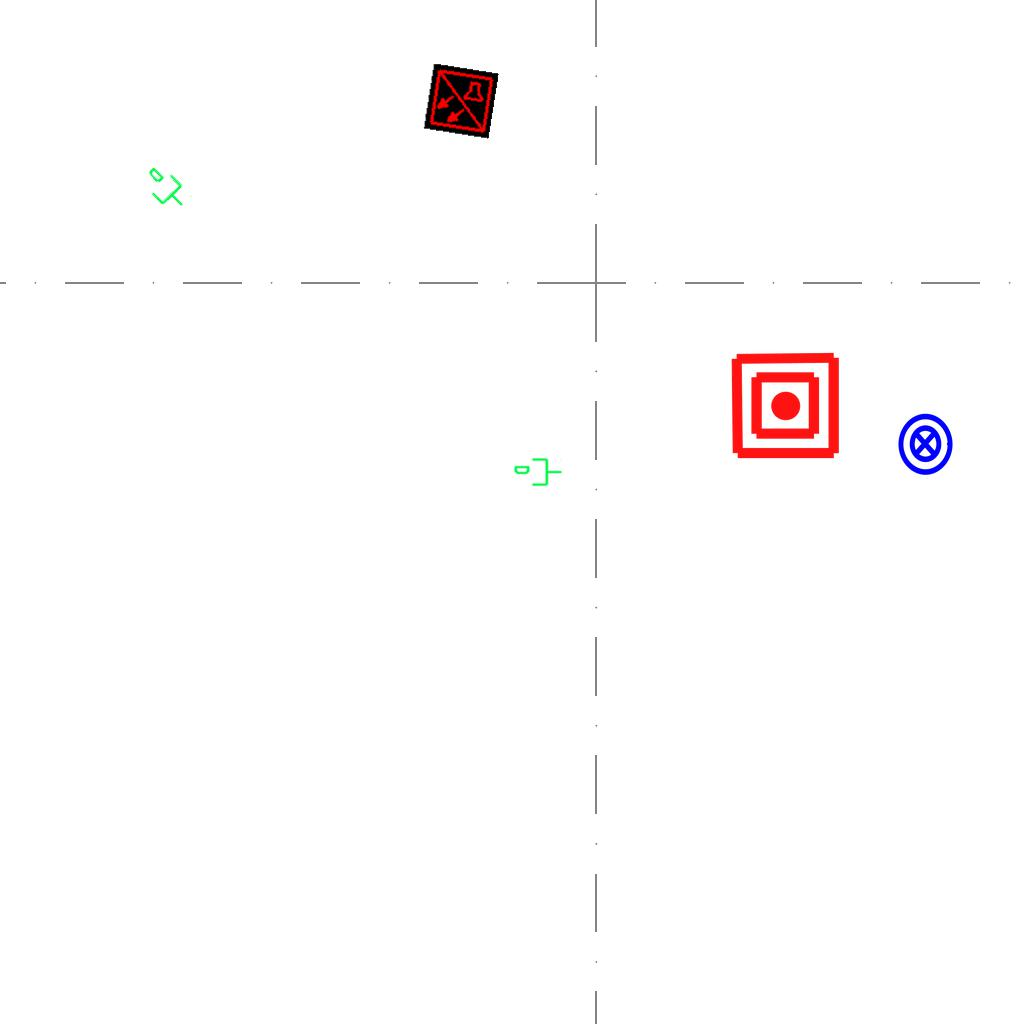Datenanschluss_einfach: (135, 159, 195, 219), (513, 456, 563, 490)
NAM-Nichtautomatischer_Melder: (729, 349, 842, 462)
OKW_Multisensormelder_(Kombination_optischer_Rauch-Kahlenmonoxid_Waerme-Melder): (423, 63, 499, 139)
Taster_beleuchtet: (892, 411, 958, 477)
